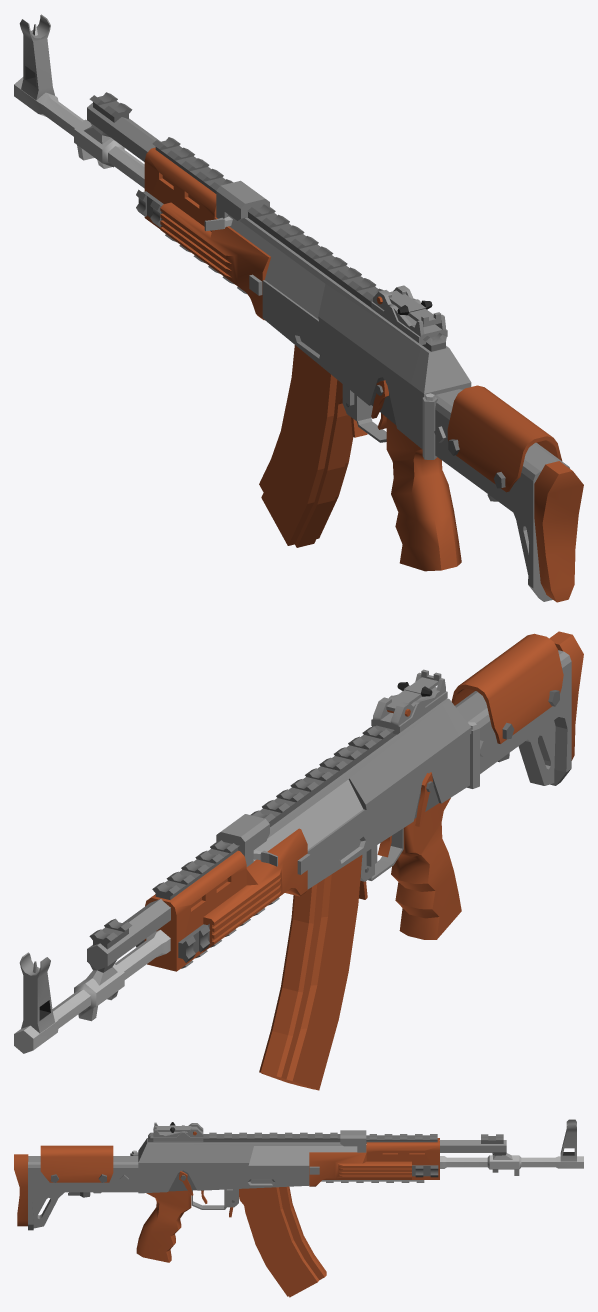
The model's file is Assoult_6.fbx.
3 renders of one model, top to bottom at view 1: azimuth 30°, elevation 25°; view 2: azimuth 150°, elevation 25°; view 3: azimuth 270°, elevation 25°, orthographic. The views are drawn at different scales.
Parts seen in each view (by area): view 1: Gun_AK_12_Body_4; view 2: Gun_AK_12_Body_4; view 3: Gun_AK_12_Body_4.
Part boxes in pixels (x1,y1,x2,y2): Gun_AK_12_Body_4: (14, 14, 583, 602); Gun_AK_12_Body_4: (14, 631, 583, 1090); Gun_AK_12_Body_4: (14, 1119, 583, 1297).
Size of the model in its own units: 67.6 by 325 by 972.
